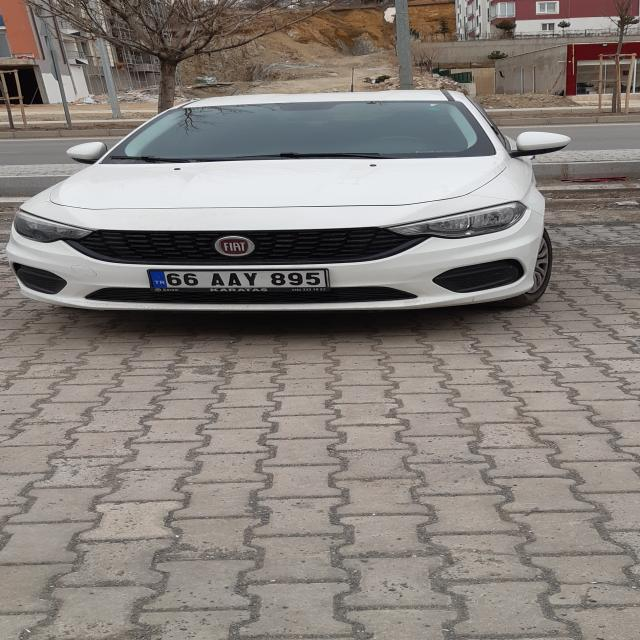license_plate: (148, 270, 328, 288)
